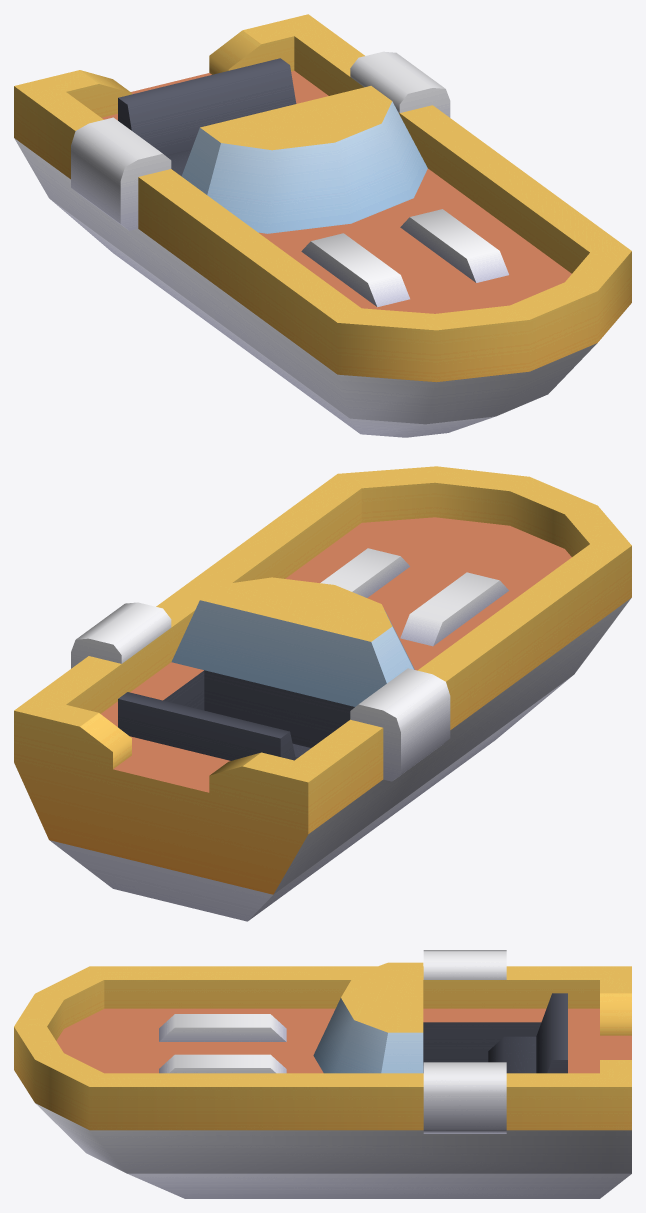
File: boat-speed-d.glb
3 renders of one model, top to bottom at view 1: azimuth 30°, elevation 25°; view 2: azimuth 150°, elevation 25°; view 3: azimuth 270°, elevation 25°, orthographic. The views are drawn at different scales.
Visible parts, largest first — view 1: boat-speed-d; view 2: boat-speed-d; view 3: boat-speed-d.
Boxes of the visible parts, x1,y1,x2,y2 form: boat-speed-d: [14, 14, 631, 437]; boat-speed-d: [14, 466, 631, 921]; boat-speed-d: [14, 950, 631, 1198].
Bounding box in the file's own units: 6.8 × 4.08 × 13.16.
1 material, 1 textured.
